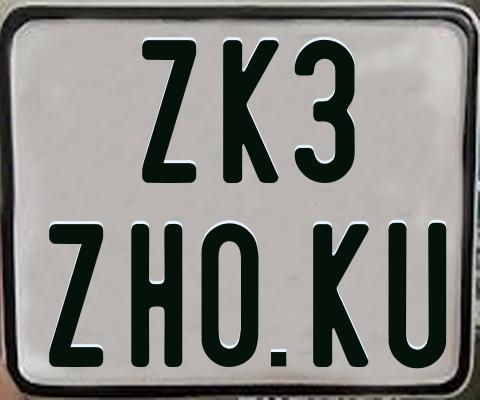0: (201, 220, 262, 364)
3: (291, 37, 354, 184)
H: (129, 222, 182, 367)
K: (311, 224, 367, 371), (221, 39, 277, 184)
U: (386, 220, 444, 366)
Z: (49, 222, 107, 369), (139, 38, 195, 186)
